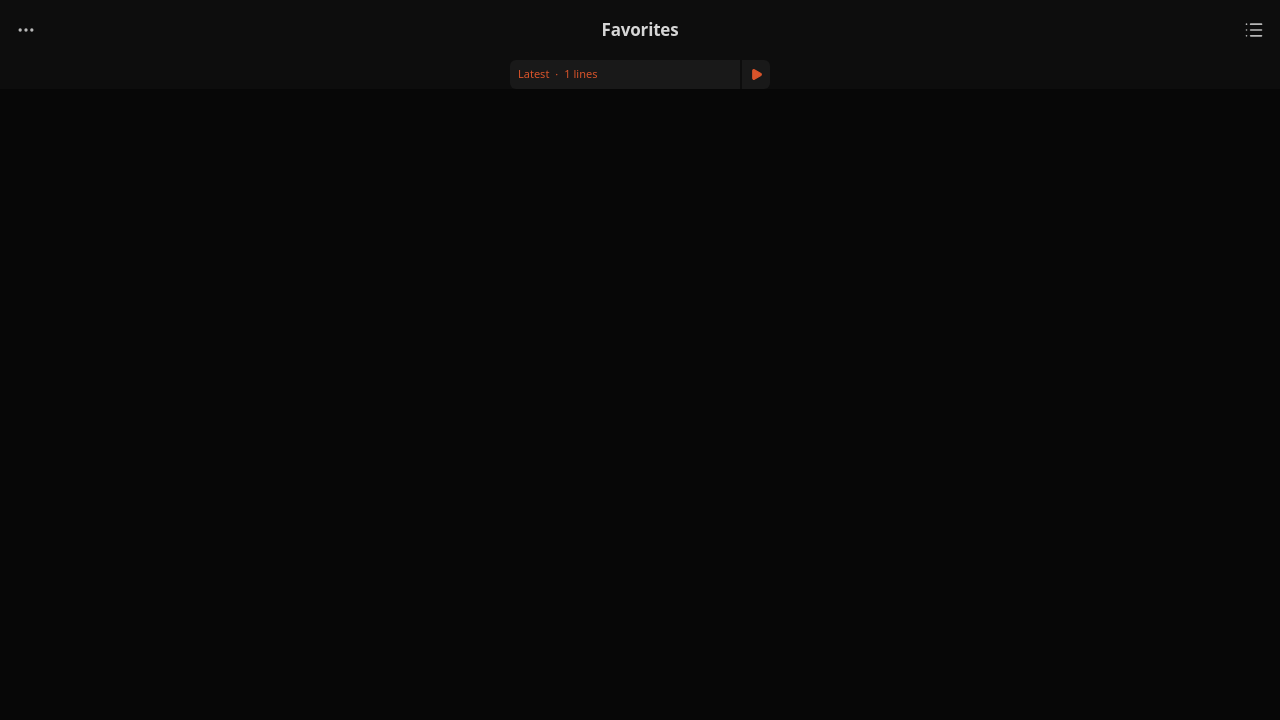
it: MobileFavoritesPage › stands the only take in the middle of the page when there is no reading
The image size is (1280, 720).
expect the element with test id "favorites-mobile-solo-script" is shown: met, box x1=510 y1=60 x2=770 y2=88
Click the button "Latest · 1 lines" at (625, 74), box x1=510 y1=60 x2=740 y2=88
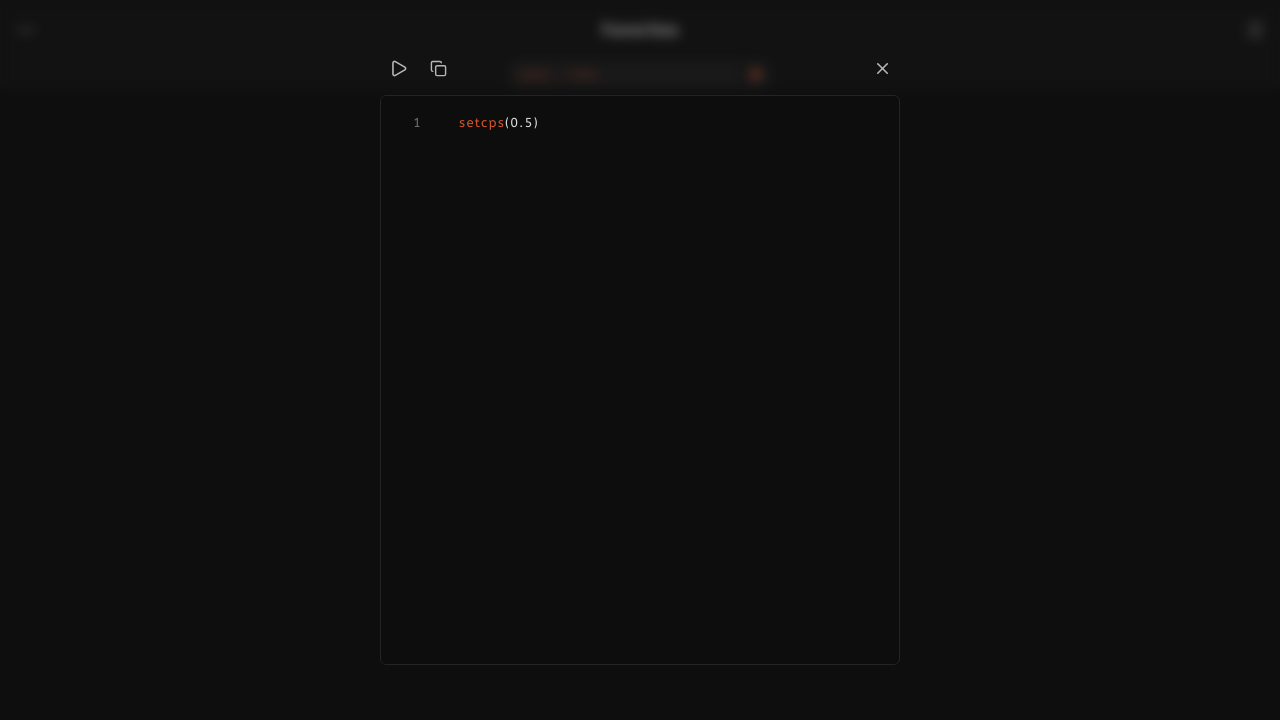
expect the element with class "cm-line" reads "setcps(0.5)": met, box x1=459 y1=115 x2=539 y2=130
